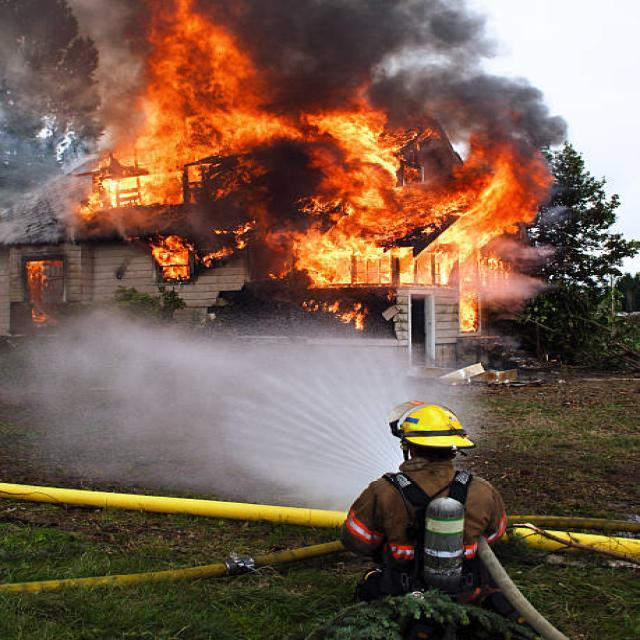Fire: (117, 1, 542, 290)
Smoke: (217, 0, 551, 146), (0, 0, 143, 225)
